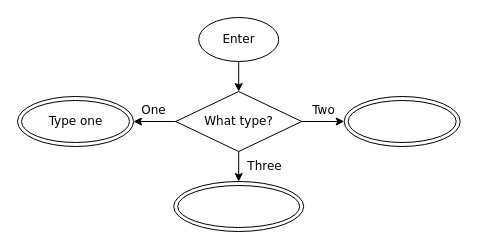
Some shapes in this 478 by 249 pixel diagram are drawn without their labels. Here are the shapes that lost their labels. From the top down, the centre of each, then its label:
At (401,121): "Type two".
At (238,206): "Type three".
